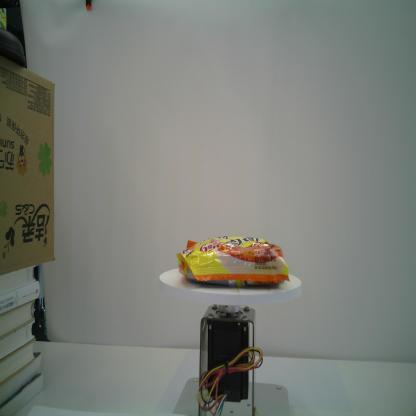Instant Noodles: (176, 234, 291, 289)
